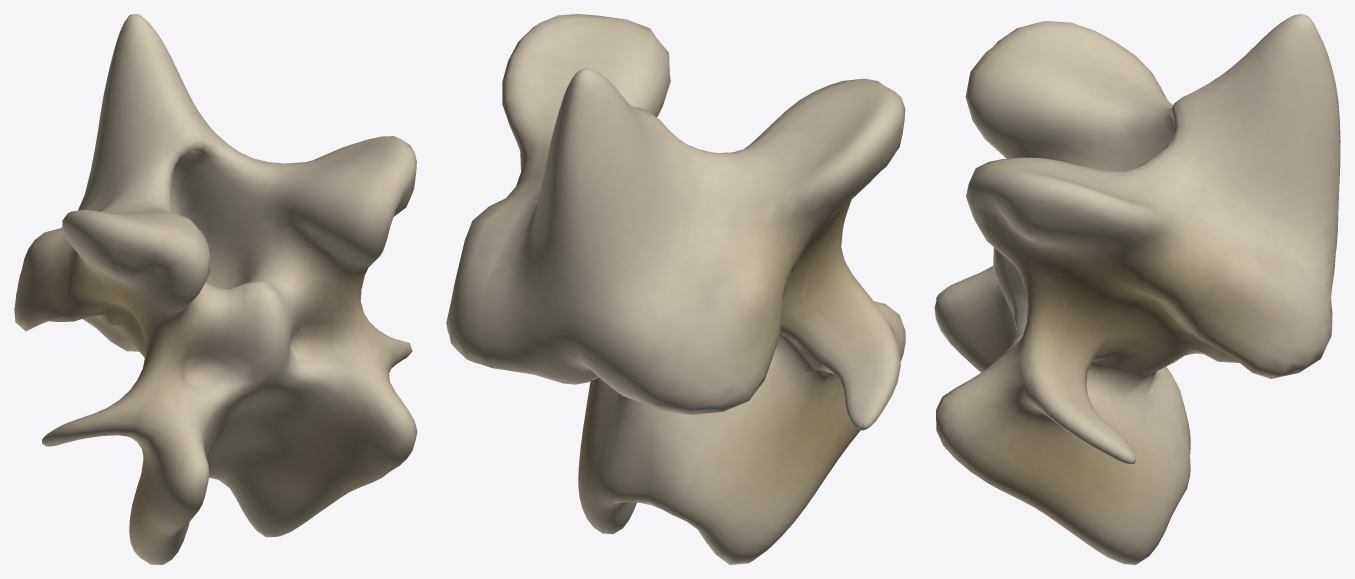
The model's file is vertebra cervicalis 5.fbx.
3 views of the same model, side by side, from view 1: azimuth 30°, elevation 25°; view 2: azimuth 150°, elevation 25°; view 3: azimuth 270°, elevation 25° (orthographic). The views are drawn at different scales.
Visible parts, largest first — view 1: vertebra cervicalis 5; view 2: vertebra cervicalis 5; view 3: vertebra cervicalis 5.
Boxes of the visible parts, bbox=[...] form: vertebra cervicalis 5: bbox=[14, 14, 417, 564]; vertebra cervicalis 5: bbox=[446, 14, 905, 564]; vertebra cervicalis 5: bbox=[934, 14, 1340, 564].
Bounding box in the file's own units: 5.88 × 7.66 × 5.43.
1 material, 1 textured.
